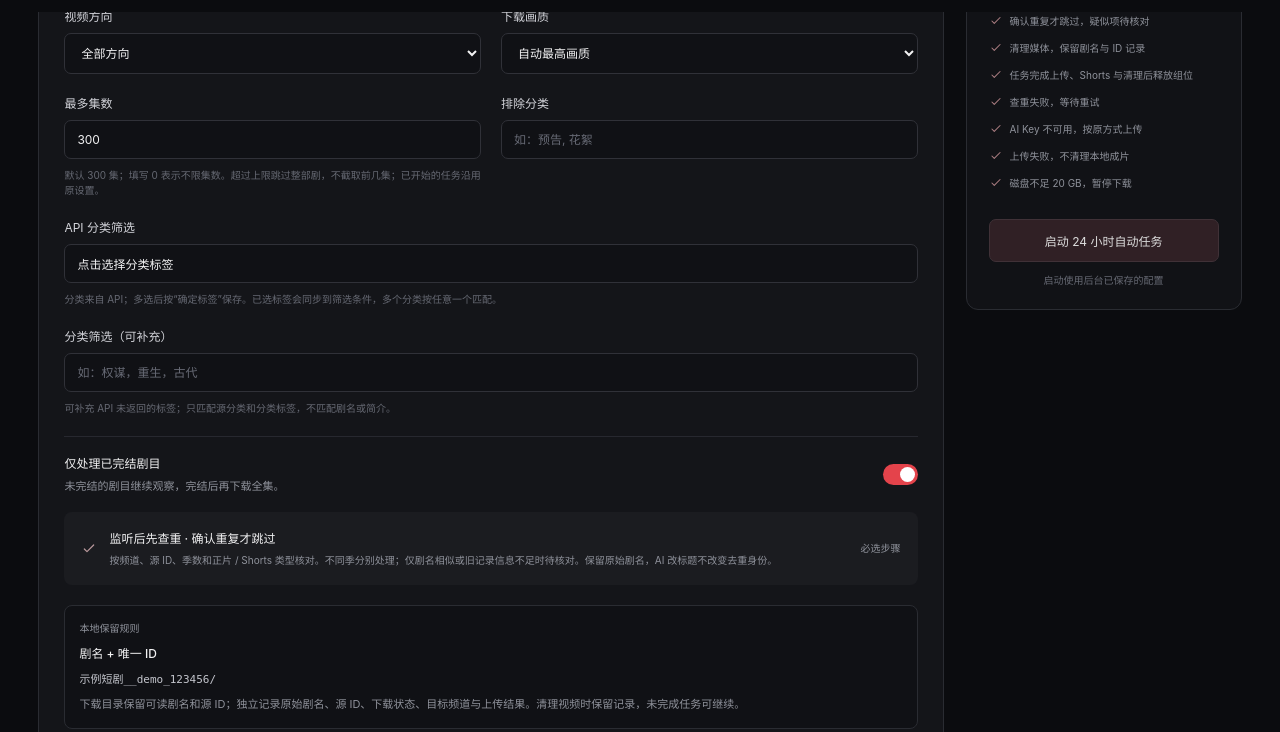
Test case: native automation boundaries › retains unsaved edits after a failed save
This screenshot has width=1280, height=732.
(page scrolled)
Step 1. Type "保留草稿" into the field with placeholder "如：权谋，重生，古代" → (491, 372), box [64,352,918,392]
(page scrolled)
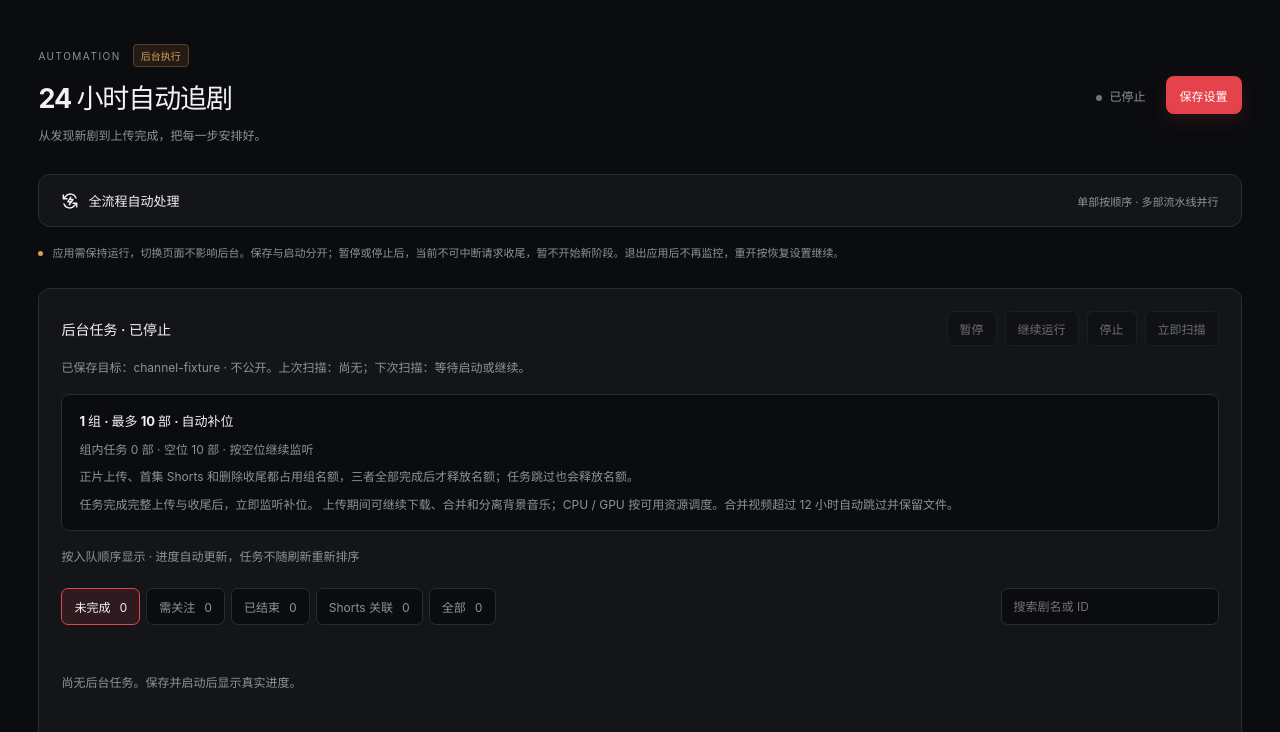
Step 2. Click the button "保存设置" → click(1204, 95), box [1166,76,1242,114]
(page scrolled)
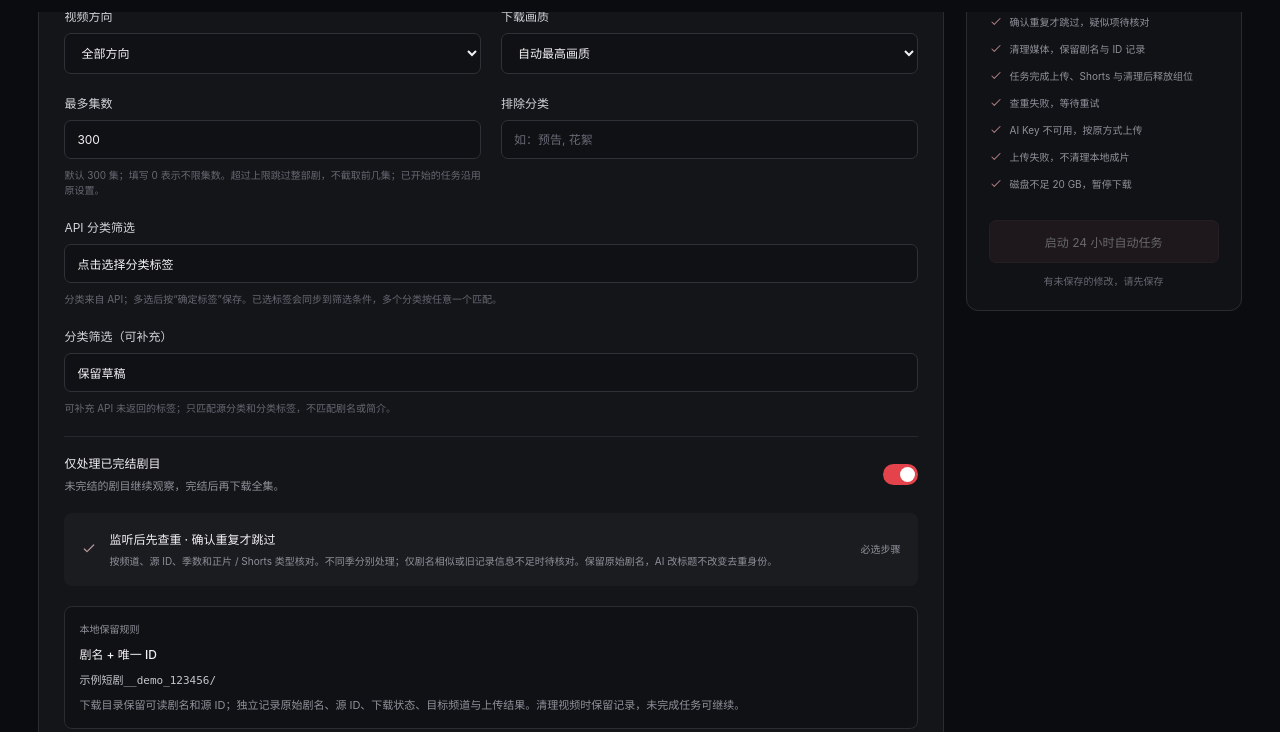
Expected: the button "启动 24 小时自动任务" is disabled, [989,220,1219,262]
